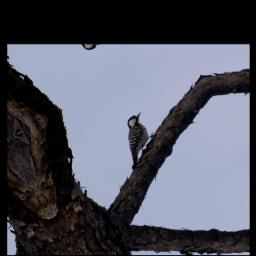Woodpecker: (105, 107, 169, 174)
